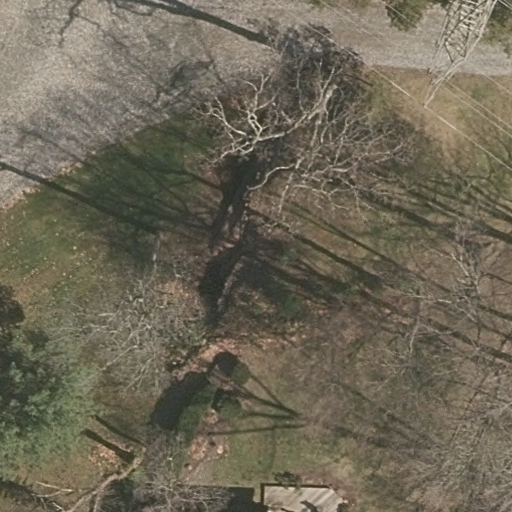TT: (413, 1, 502, 123)
